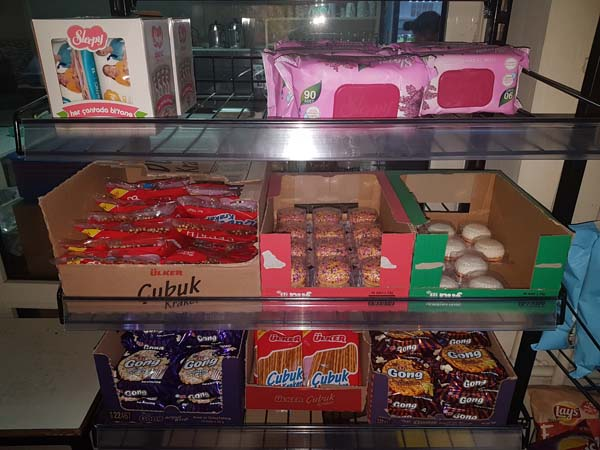eticubuk: (252, 328, 308, 390), (307, 327, 362, 389)
etigong: (374, 354, 439, 399), (436, 345, 500, 387)
etipuf: (457, 268, 515, 291), (472, 232, 513, 263), (451, 253, 494, 276), (436, 234, 468, 260), (427, 218, 461, 240), (463, 222, 495, 242)
sleepyogrencikoli: (264, 42, 432, 126), (430, 44, 533, 126)
